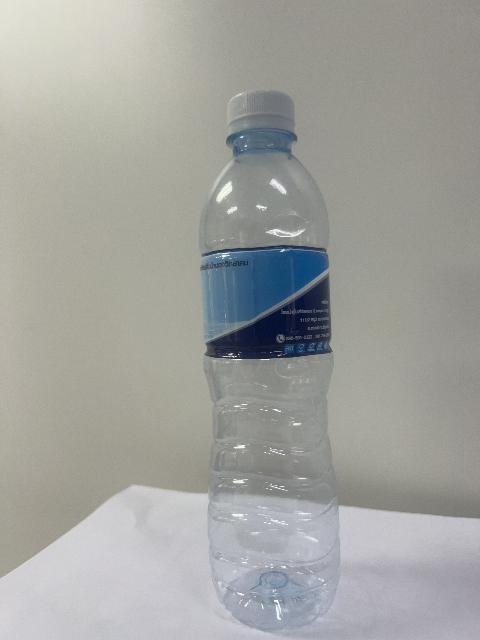bottle: (200, 91, 339, 629)
